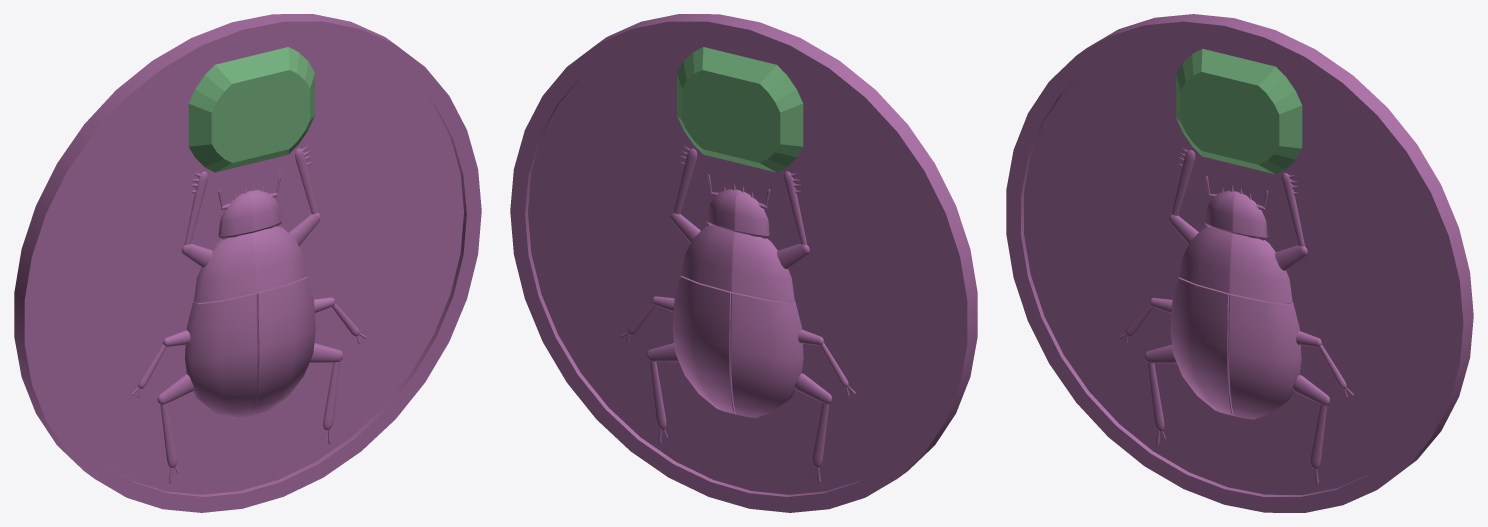
File: Moneda Cuadrado.fbx
The picture shows the model from 3 angles, left to right: view 1: azimuth 30°, elevation 25°; view 2: azimuth 150°, elevation 25°; view 3: azimuth 330°, elevation 25°; orthographic projection.
Visible parts, largest first — view 1: polySurface54; view 2: polySurface54; view 3: polySurface54.
Boxes of the visible parts, box(x1,y1,x2,y2) form: polySurface54: box(14, 14, 481, 512); polySurface54: box(510, 14, 977, 512); polySurface54: box(1006, 14, 1473, 512).
Size of the model in its own units: 4.66 by 4.67 by 0.4061.
